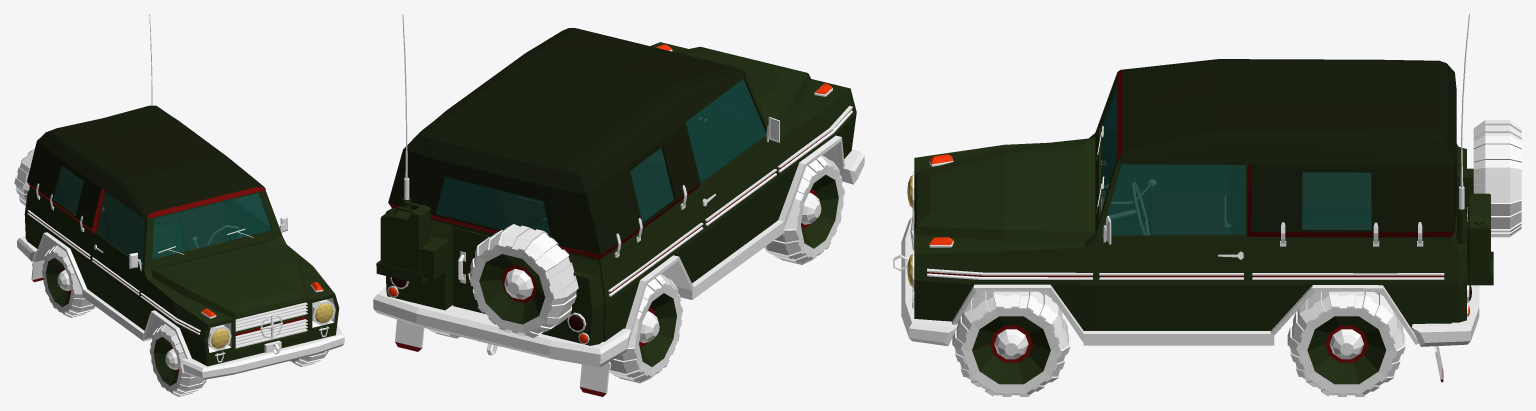
Rendered from MilitaryJeep_02.FBX.
3 renders of one model, left to right at view 1: azimuth 30°, elevation 25°; view 2: azimuth 150°, elevation 25°; view 3: azimuth 270°, elevation 25°, orthographic. The views are drawn at different scales.
Visible parts, largest first — view 1: MilitaryJeep_02, interior, bumper_f, wheel_b_r, wheel_f_r, grill, headLights, spareWheel, bumper_b, lights; view 2: MilitaryJeep_02, interior, spareWheel, bumper_b, wheel_f_r, wheel_b_r, jerryCan, bumper_f, antenna; view 3: MilitaryJeep_02, interior, wheel_f_l, wheel_b_l, spareWheel, jerryCan, bumper_f, bumper_b, antenna.
Boxes of the visible parts, bbox=[...] form: MilitaryJeep_02: bbox=[24, 105, 339, 366]; interior: bbox=[54, 166, 271, 266]; bumper_f: bbox=[182, 325, 344, 379]; wheel_b_r: bbox=[42, 245, 95, 317]; wheel_f_r: bbox=[149, 324, 206, 396]; grill: bbox=[235, 302, 307, 348]; headLights: bbox=[211, 303, 333, 348]; spareWheel: bbox=[14, 147, 35, 205]; bumper_b: bbox=[17, 236, 44, 282]; lights: bbox=[201, 284, 335, 350]; MilitaryJeep_02: bbox=[386, 28, 856, 345]; interior: bbox=[436, 79, 765, 237]; spareWheel: bbox=[468, 224, 578, 337]; bumper_b: bbox=[373, 286, 630, 396]; wheel_f_r: bbox=[764, 155, 844, 264]; wheel_b_r: bbox=[609, 274, 682, 383]; jerryCan: bbox=[376, 201, 430, 284]; bumper_f: bbox=[842, 149, 864, 184]; antenna: bbox=[402, 14, 411, 208]; MilitaryJeep_02: bbox=[893, 59, 1473, 345]; interior: bbox=[1101, 87, 1371, 235]; wheel_f_l: bbox=[952, 291, 1070, 396]; wheel_b_l: bbox=[1287, 291, 1405, 396]; spareWheel: bbox=[1473, 120, 1521, 237]; jerryCan: bbox=[1467, 193, 1493, 285]; bumper_f: bbox=[901, 217, 956, 346]; bumper_b: bbox=[1411, 220, 1479, 382]; antenna: bbox=[1456, 14, 1469, 244].
Size of the model in its own units: 21.16 by 30.71 by 46.76.
